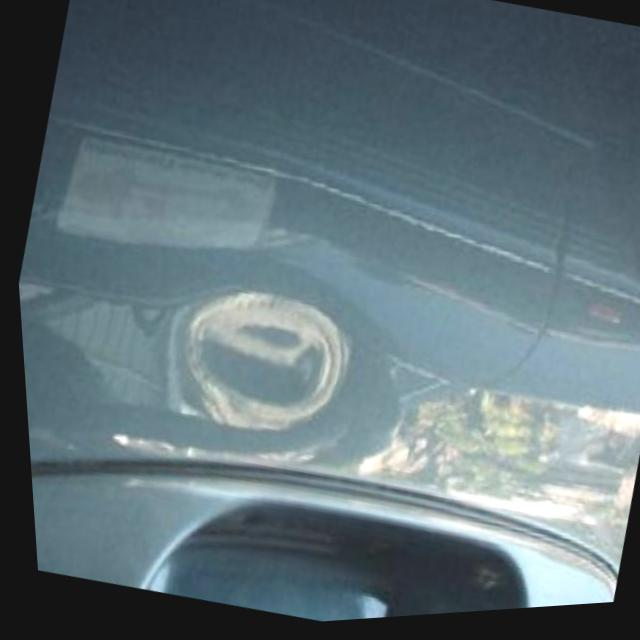Dent: (158, 275, 394, 447)
